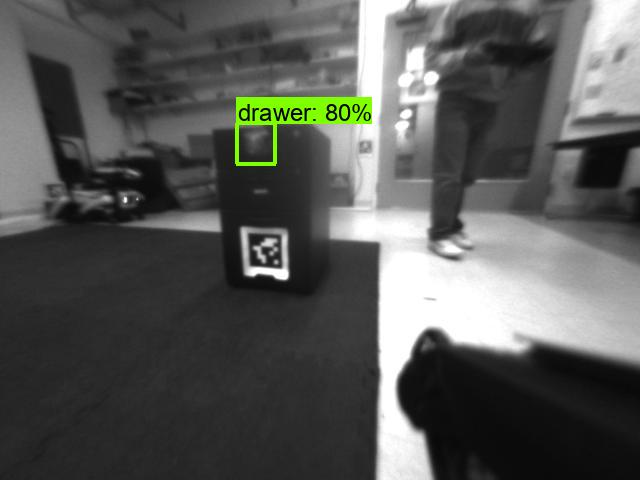drawer: (239, 128, 279, 157)
